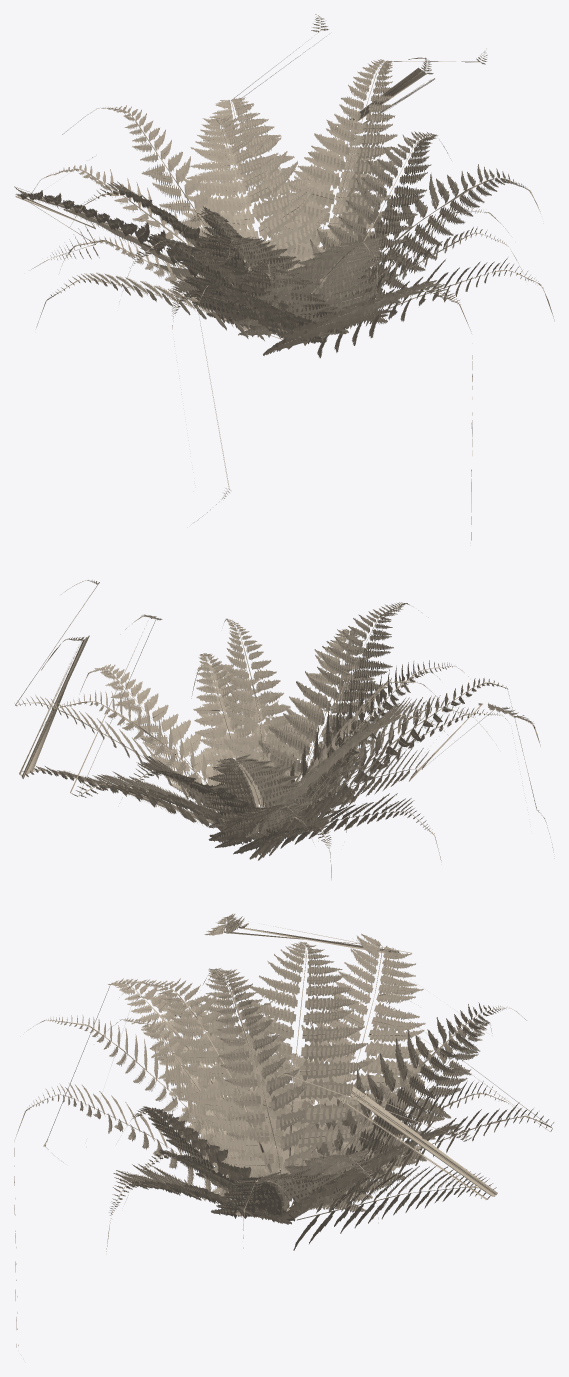
Rendered from 3dcodebench_Fern_seed0_L1_Q0__gptoss120b.glb.
3 views of the same model, one above another, from view 1: azimuth 30°, elevation 25°; view 2: azimuth 150°, elevation 25°; view 3: azimuth 270°, elevation 25° (orthographic). The views are drawn at different scales.
Visible parts, largest first — view 1: object; view 2: object; view 3: object.
Part boxes in pixels (box(x1,y1,x2,y2)): object: box(14, 14, 554, 540); object: box(14, 580, 554, 880); object: box(14, 914, 554, 1347).
Bounding box in the file's own units: 3.24 × 2.33 × 2.94.
